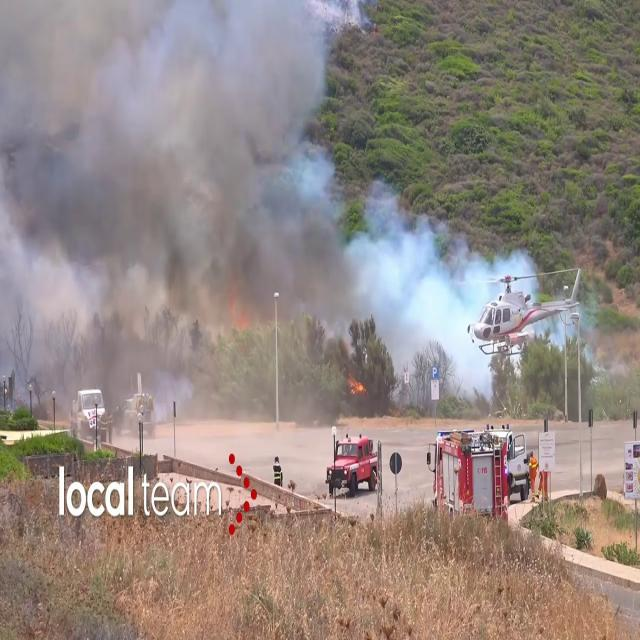Smoke: (0, 0, 372, 396), (362, 190, 594, 402)
